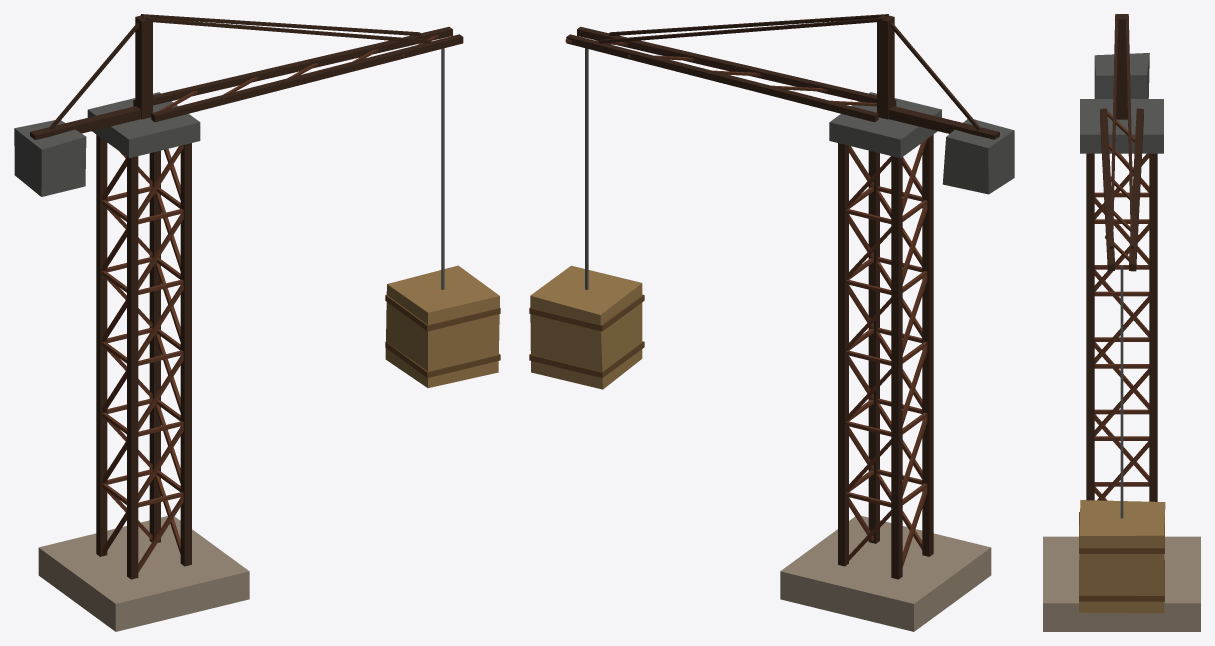
Rendered from jib_crane.glb.
3 views of the same model, side by side, from view 1: azimuth 30°, elevation 25°; view 2: azimuth 150°, elevation 25°; view 3: azimuth 270°, elevation 25° (orthographic). The views are drawn at different scales.
Parts seen in each view (by area): view 1: jib_crane; view 2: jib_crane; view 3: jib_crane.
Boxes of the visible parts, x1,y1,x2,y2 form: jib_crane: [14, 14, 500, 631]; jib_crane: [529, 14, 1014, 631]; jib_crane: [1043, 14, 1200, 631].
Size of the model in its own units: 10.13 by 12.23 by 3.
